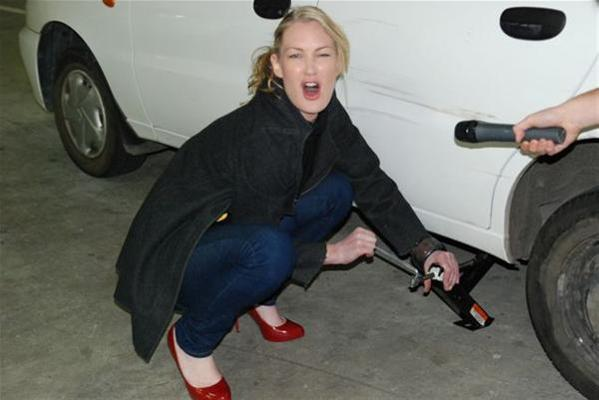person: (110, 5, 465, 398)
